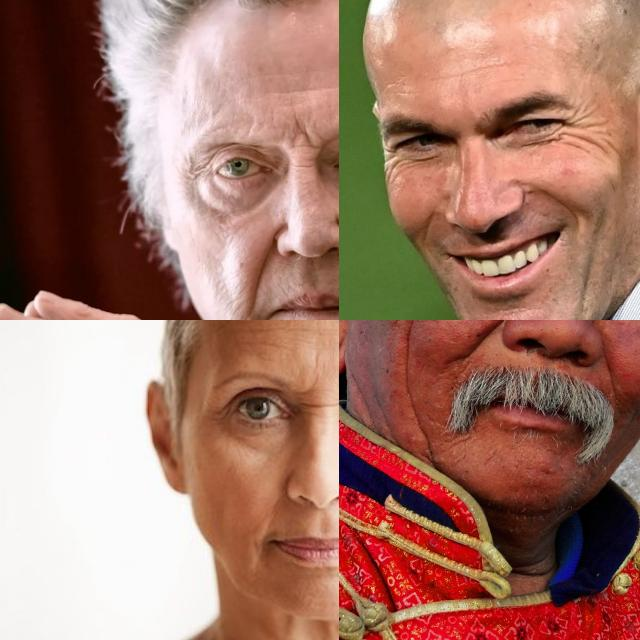chin: (492, 307, 532, 319)
crows_feet: (566, 109, 606, 149), (383, 146, 403, 178)
forehead: (431, 63, 512, 87), (272, 80, 322, 100), (254, 336, 298, 352)
frown_line: (286, 119, 316, 161), (301, 390, 339, 414)
gummy_smile: (244, 238, 278, 298), (521, 178, 581, 212), (467, 320, 505, 357), (597, 346, 617, 402), (268, 474, 294, 508), (418, 204, 436, 244)
masseter: (390, 321, 426, 413), (581, 228, 601, 316), (414, 417, 441, 457)
